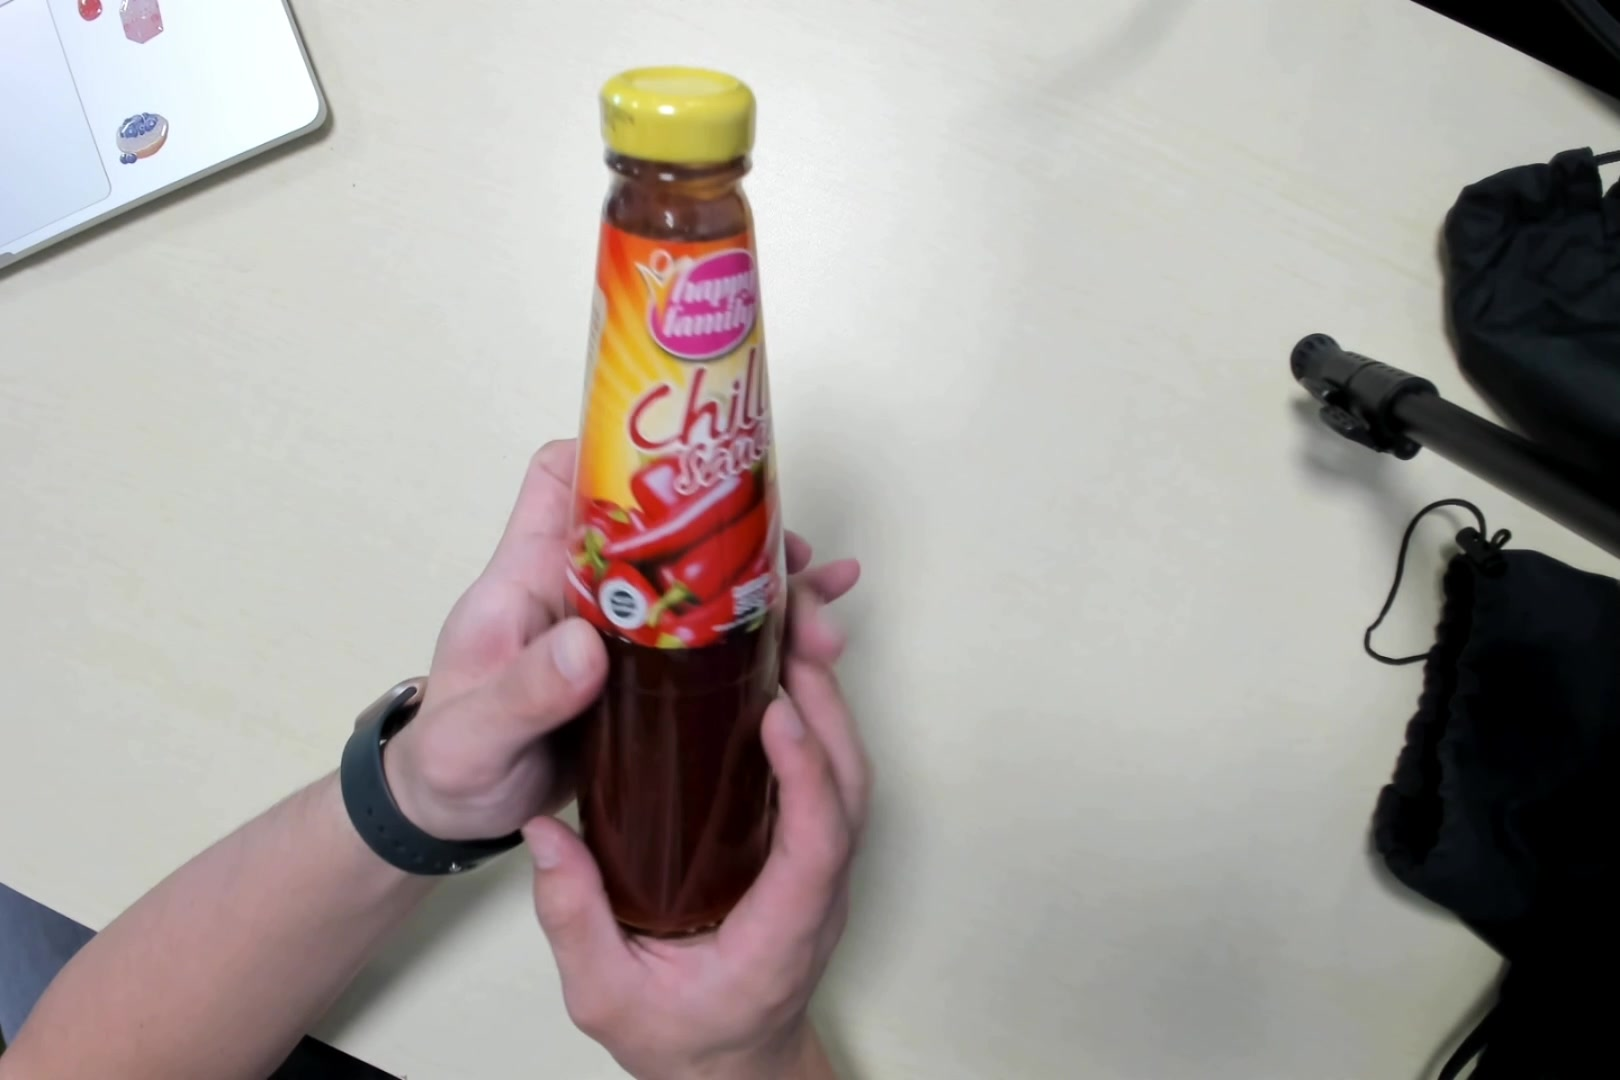KetchupChillSauce_500-599g_Halal_NonHealthy: (560, 69, 794, 932)
